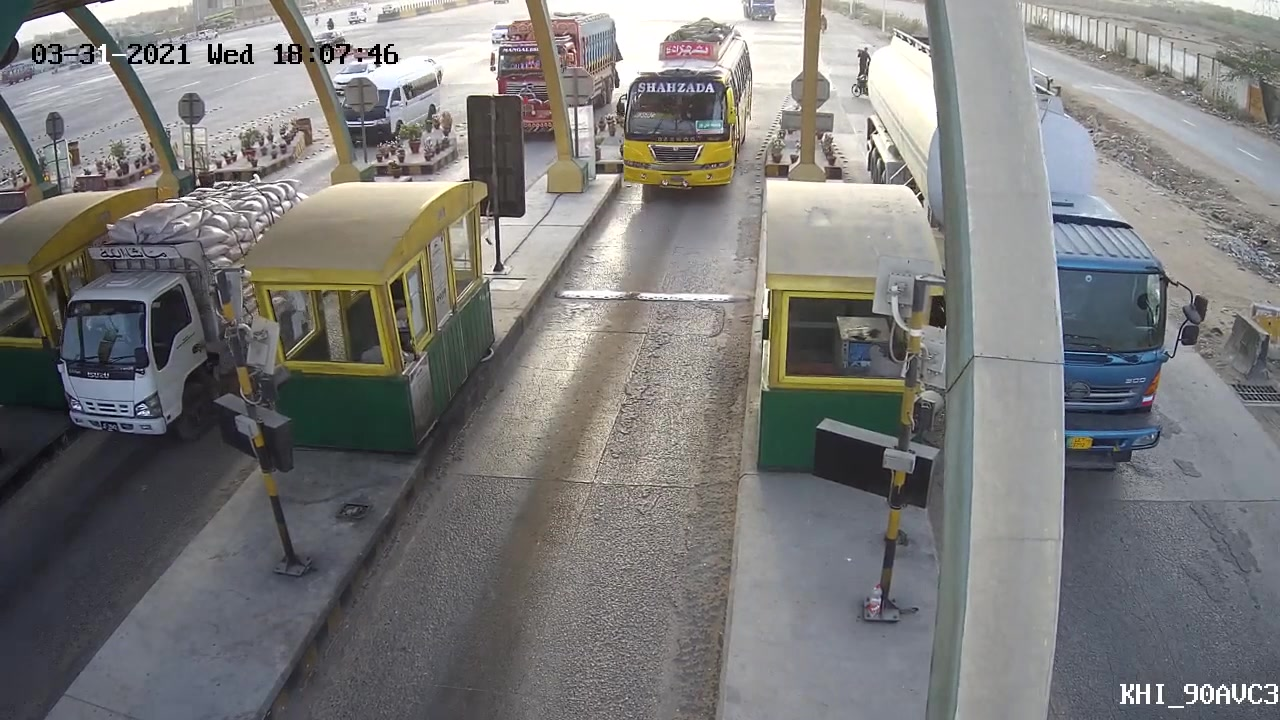F4: (611, 16, 758, 206)
